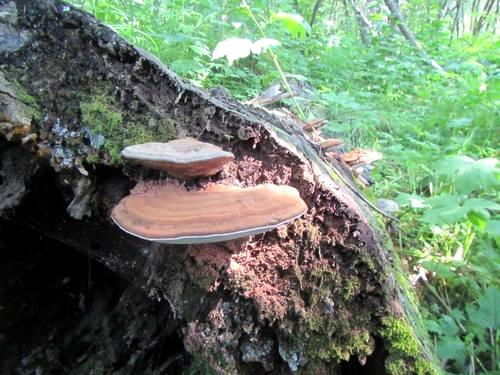Ganoderma - Fruit Body: (107, 182, 314, 246), (109, 135, 240, 178)
